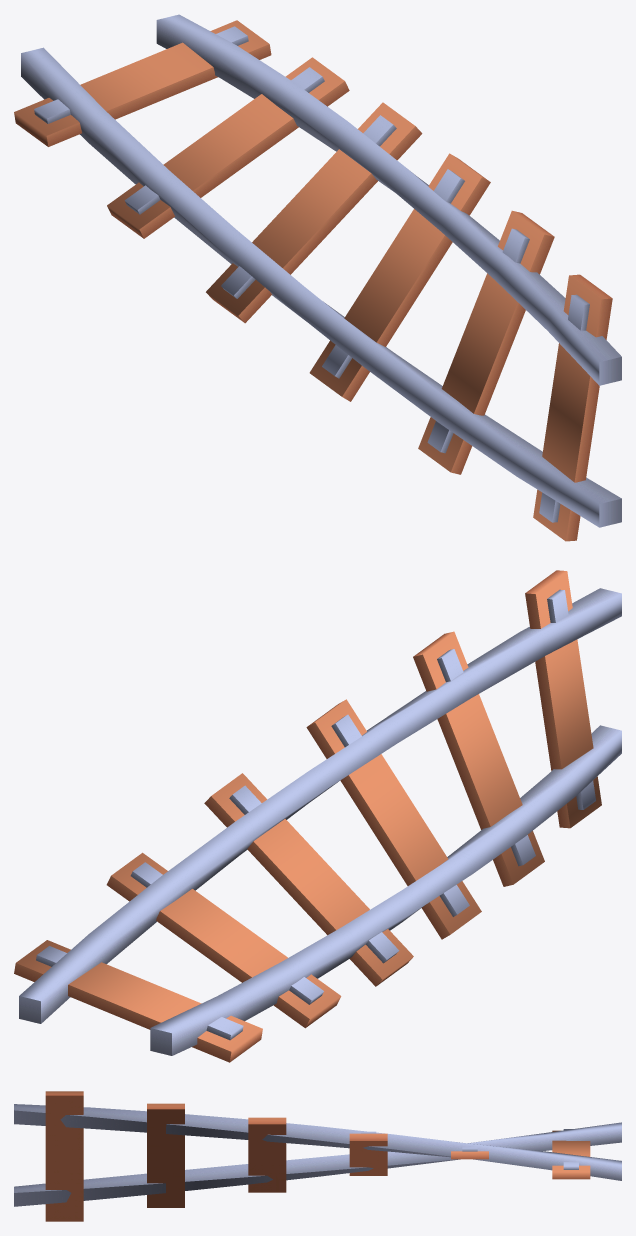
Rendered from railroad-straight-skew-right-side.glb.
3 views of the same model, one above another, from view 1: azimuth 30°, elevation 25°; view 2: azimuth 150°, elevation 25°; view 3: azimuth 270°, elevation 25° (orthographic). The views are drawn at different scales.
Visible parts, largest first — view 1: railroad-straight-skew-right-side; view 2: railroad-straight-skew-right-side; view 3: railroad-straight-skew-right-side.
Boxes of the visible parts, x1=… form: railroad-straight-skew-right-side: x1=14, y1=14, x2=621, y2=541; railroad-straight-skew-right-side: x1=14, y1=570, x2=621, y2=1062; railroad-straight-skew-right-side: x1=14, y1=1091, x2=621, y2=1221.
Size of the model in its own units: 0.9952 by 0.9952 by 4.
1 material, 1 textured.
